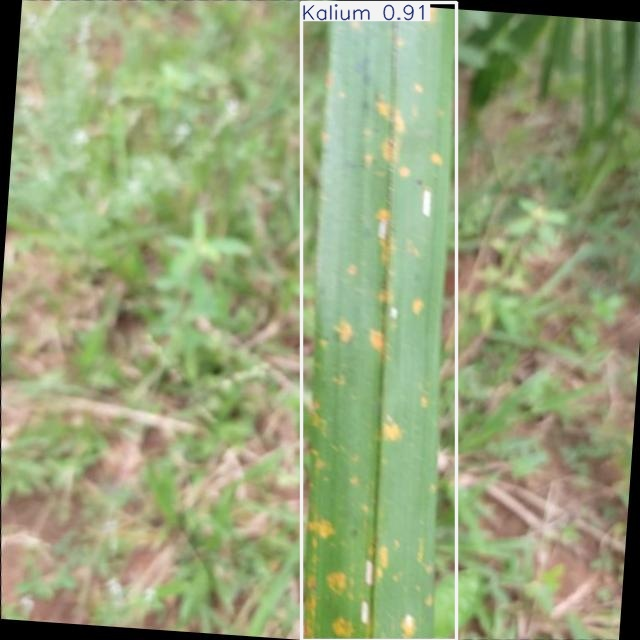Kalium: (301, 2, 457, 640)
